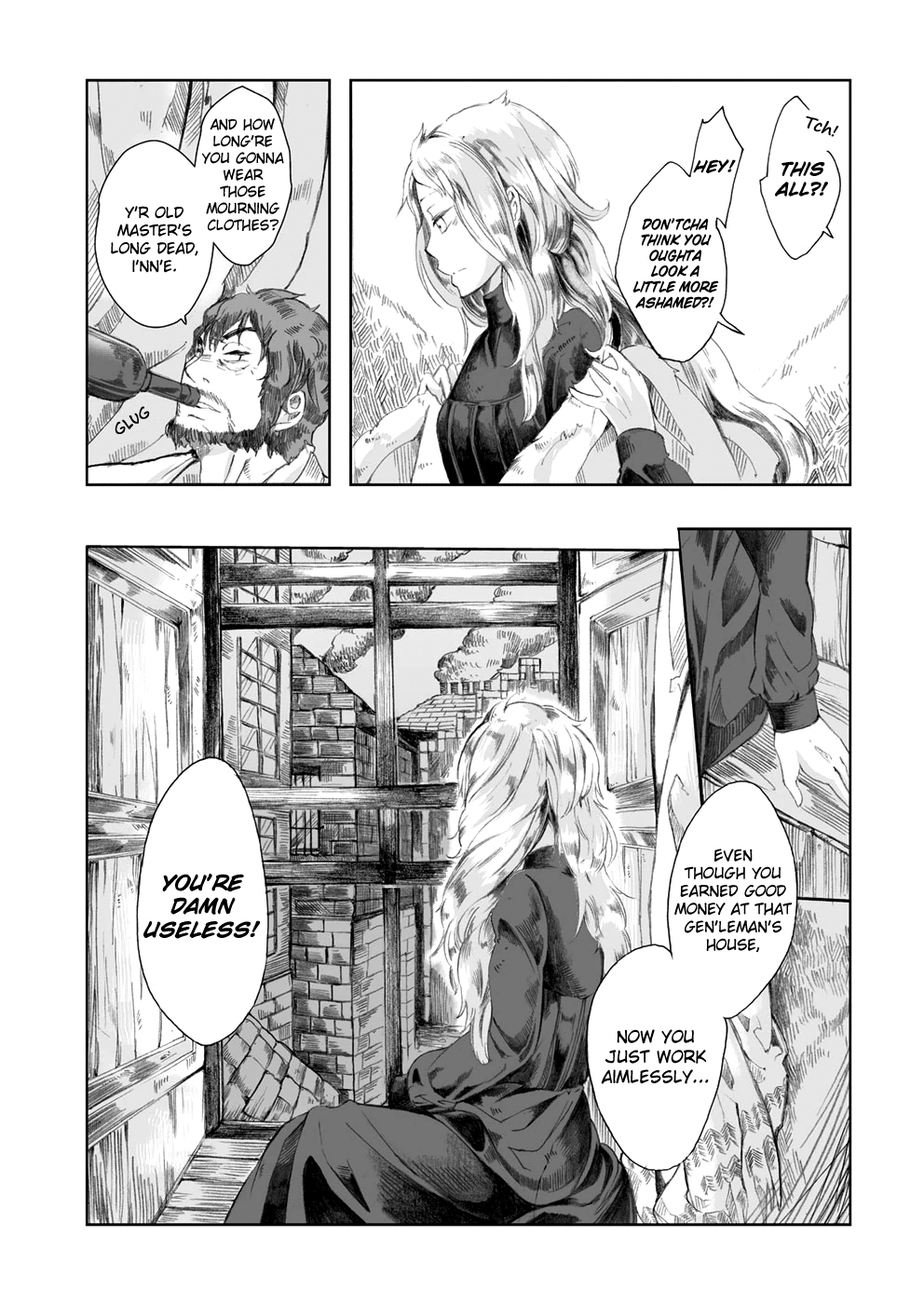bubble: (138, 757, 268, 1046), (585, 944, 728, 1170), (667, 781, 797, 1019), (614, 160, 742, 362), (94, 140, 213, 329), (195, 85, 292, 266), (759, 96, 841, 260), (690, 107, 742, 226)
